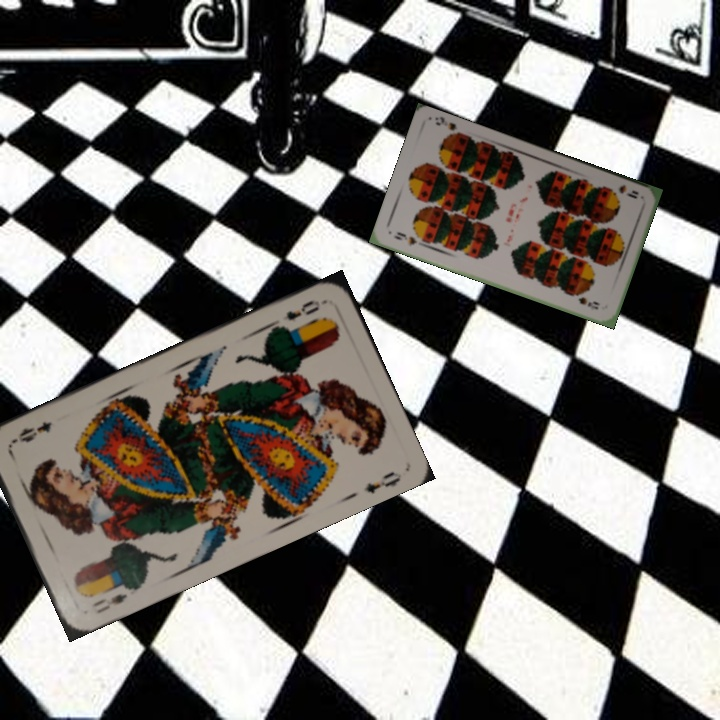EO: (274, 296, 328, 332), (88, 589, 130, 616)
S9: (603, 181, 641, 201), (389, 228, 420, 249)
